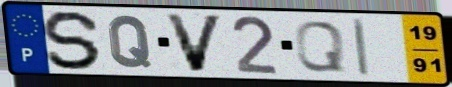2: (231, 14, 279, 76)
I: (350, 17, 373, 78)
Q: (293, 19, 348, 74), (106, 13, 154, 70)
S: (39, 9, 105, 71)
V: (162, 12, 227, 74)
